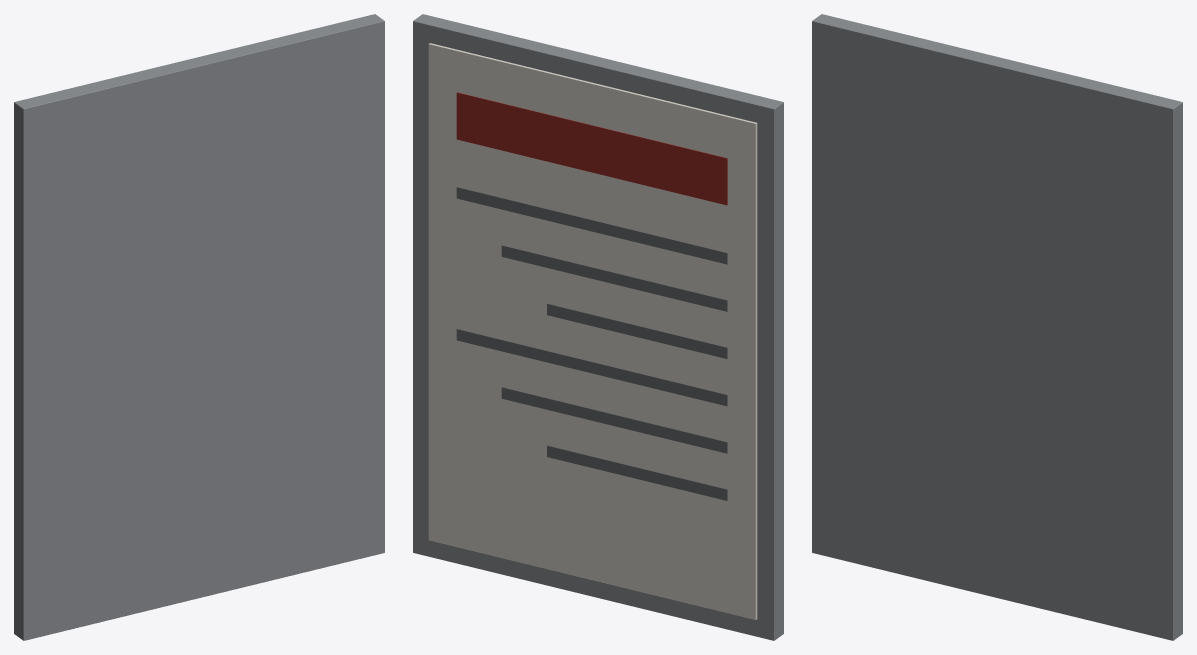
File: prop_notice_frame.glb
3 views of the same model, side by side, from view 1: azimuth 30°, elevation 25°; view 2: azimuth 150°, elevation 25°; view 3: azimuth 330°, elevation 25° (orthographic).
Parts seen in each view (by area): view 1: Notice; view 2: Notice; view 3: Notice.
Boxes of the visible parts, x1=… form: Notice: x1=14, y1=14, x2=384, y2=640; Notice: x1=413, y1=14, x2=783, y2=640; Notice: x1=812, y1=14, x2=1182, y2=640.
Bounding box in the file's own units: 0.32 × 0.45 × 0.0175.
